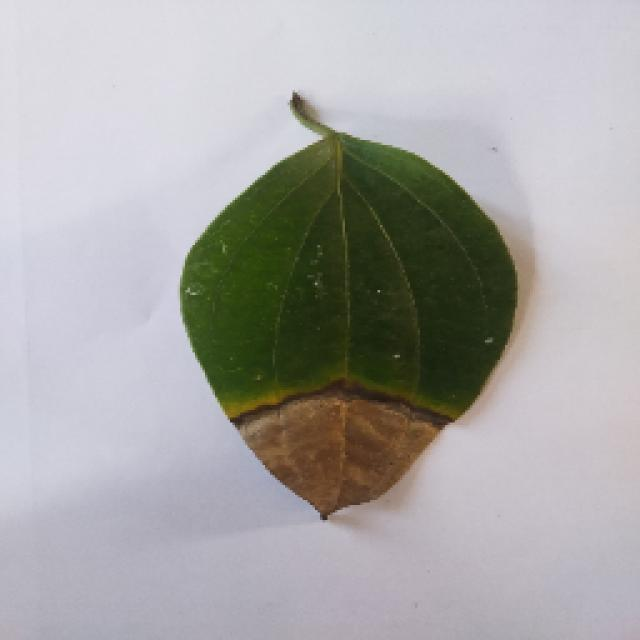footrot: (175, 95, 520, 525)
